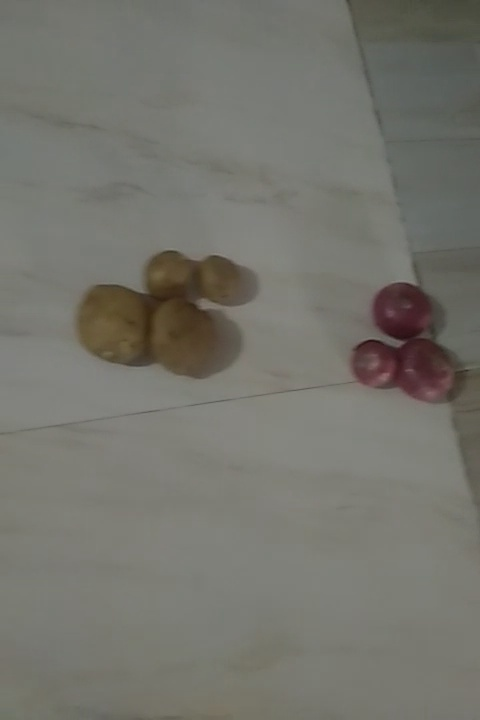onion: (396, 338, 462, 407), (376, 283, 434, 346), (355, 336, 394, 395)
potato: (76, 284, 147, 366), (149, 295, 213, 380), (199, 245, 244, 307), (137, 251, 193, 296)
